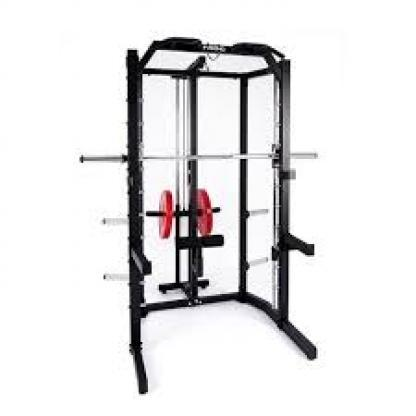smith machine: (79, 37, 318, 395)
